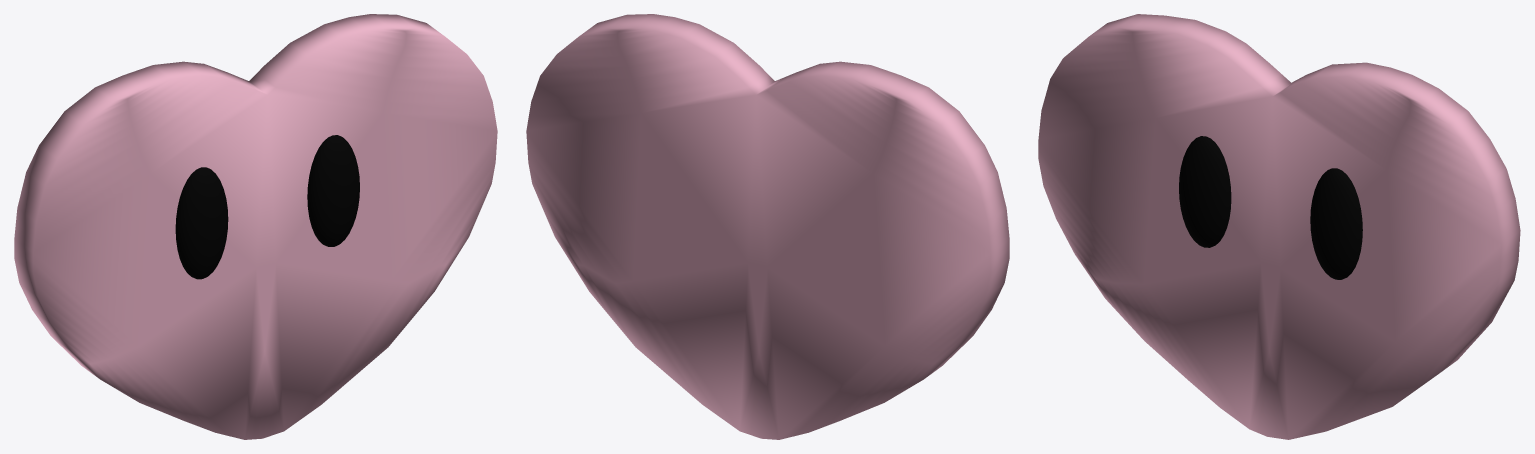
Rendered from Heart.dae.
3 views of the same model, side by side, from view 1: azimuth 30°, elevation 25°; view 2: azimuth 150°, elevation 25°; view 3: azimuth 330°, elevation 25° (orthographic).
Visible parts, largest first — view 1: Plane, Sphere, Sphere_001; view 2: Plane; view 3: Plane, Sphere, Sphere_001.
Boxes of the visible parts, x1,y1,x2,y2 form: Plane: (14, 14, 497, 439); Sphere: (307, 135, 359, 246); Sphere_001: (175, 167, 228, 279); Plane: (526, 14, 1009, 439); Plane: (1038, 14, 1520, 439); Sphere: (1310, 168, 1362, 279); Sphere_001: (1179, 136, 1231, 247).
Bounding box in the file's own units: 8.73 × 0.9115 × 6.86.
